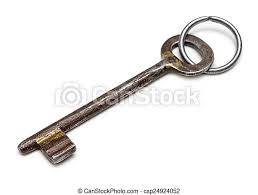key: (15, 17, 243, 166)
